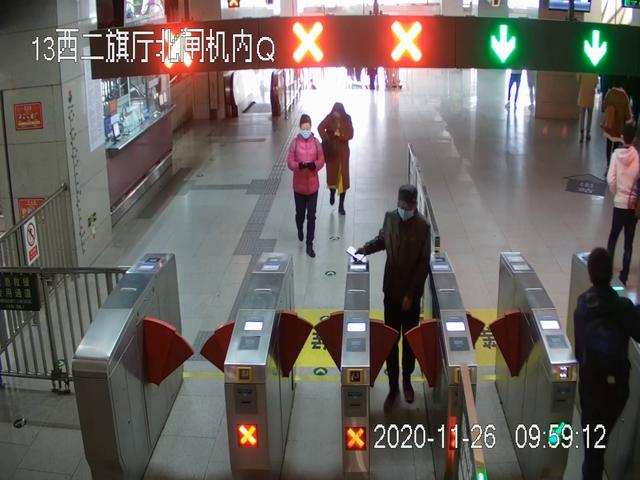person: (358, 185, 432, 411), (572, 247, 640, 480), (605, 125, 640, 286), (288, 113, 325, 257), (318, 102, 355, 217), (601, 82, 638, 175)
